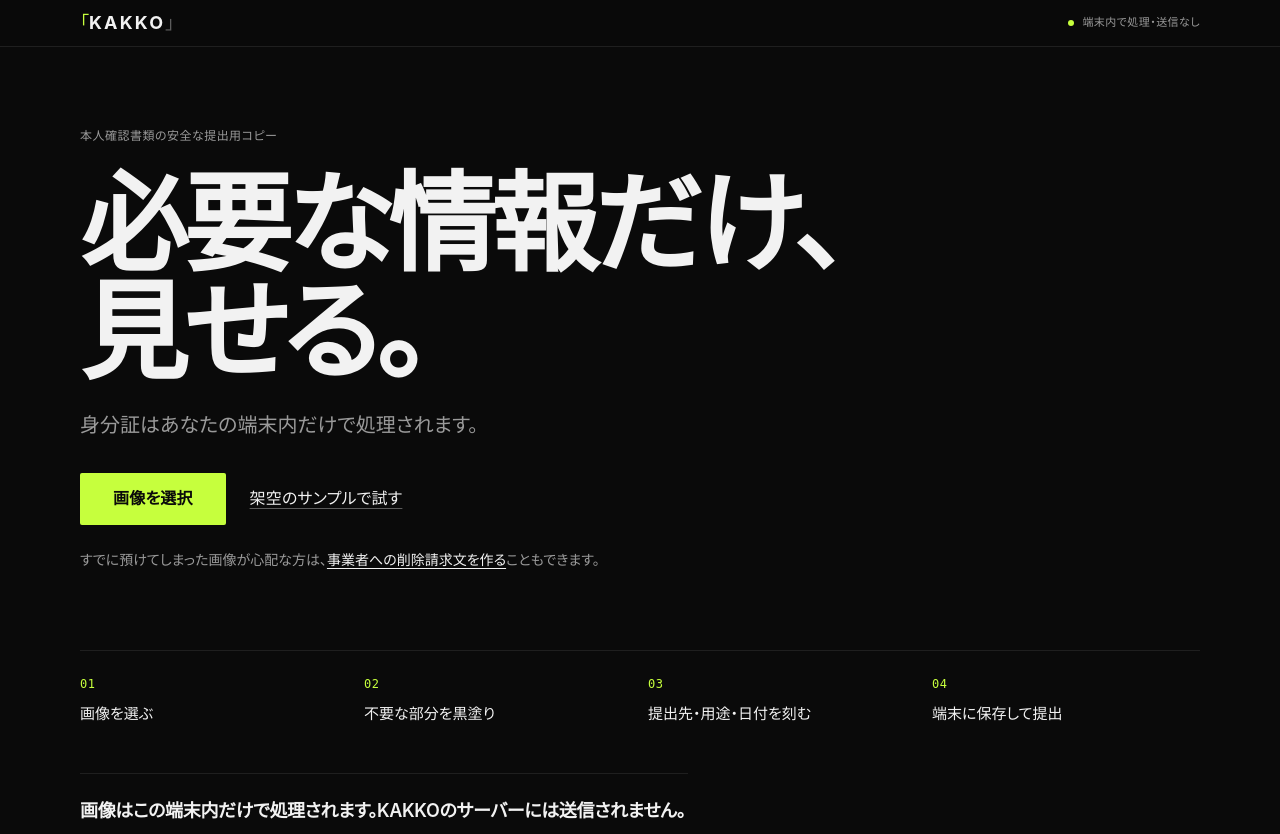
Test: App › warns about risky job offers and blocks export until acknowledged
Click the button "架空のサンプルで試す" at (326, 499), box [250,477,402,521]
(page scrolled)
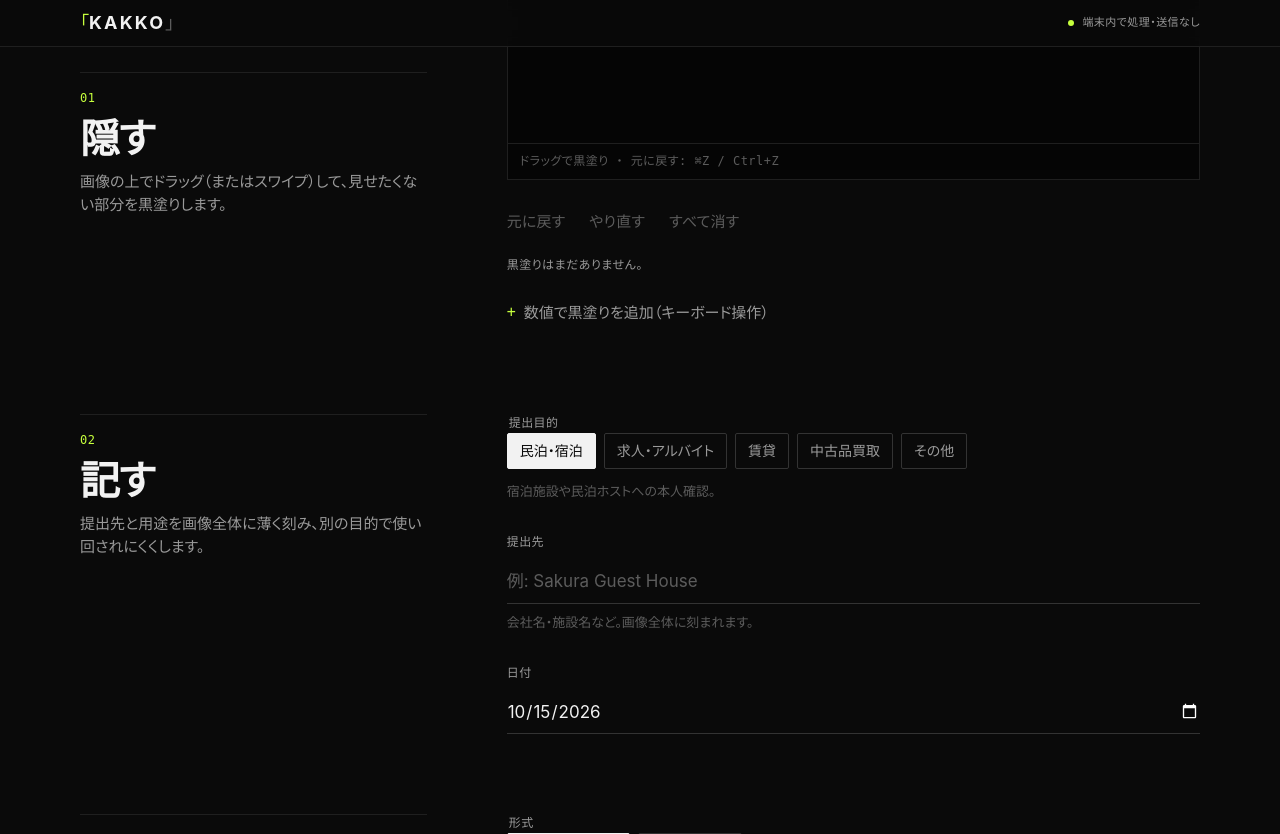
Click the radio button labelled "求人・アルバイト" at (665, 451), box [604,433,727,469]
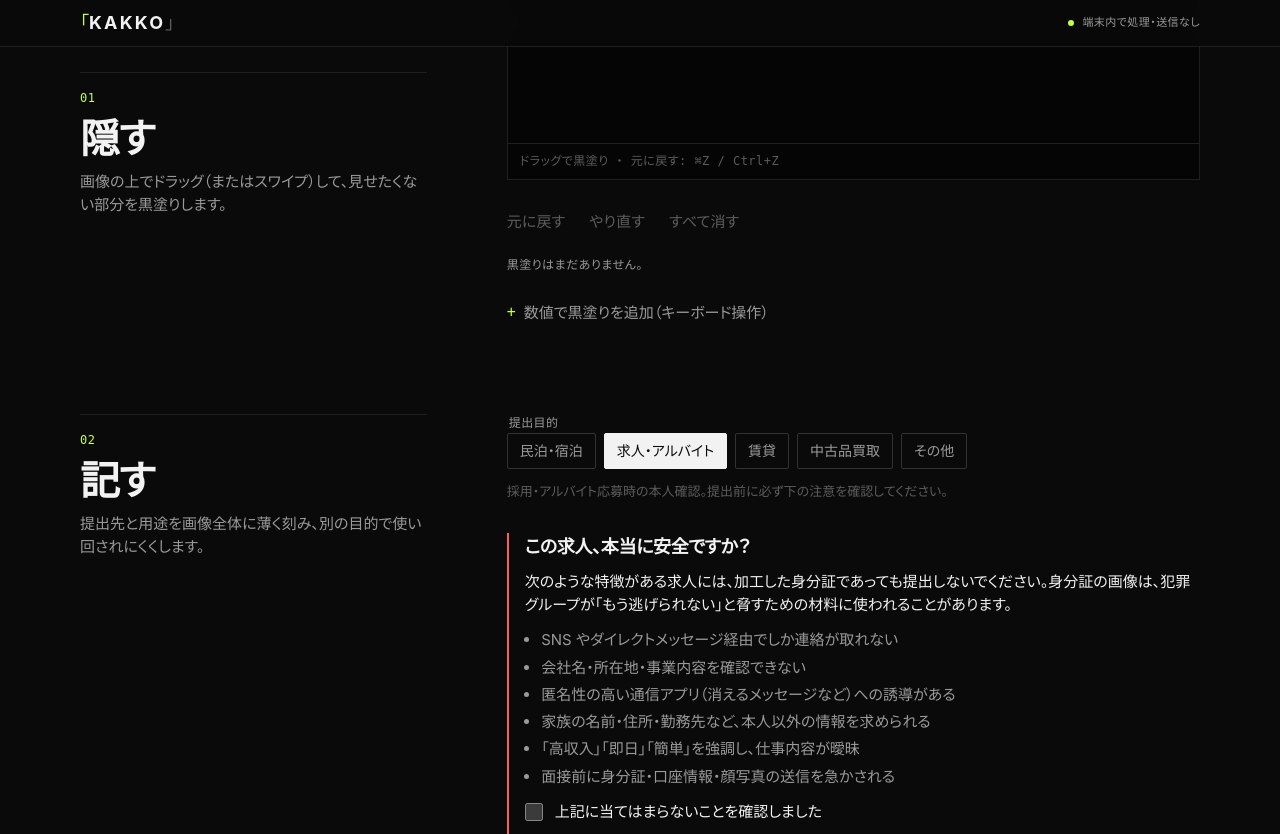
Check: the heading "この求人、本当に安全ですか？" is shown, box [525,536,750,557]
Check: the list item "SNS やダイレクトメッセージ経由でしか連絡が取れない" is shown, box [541,630,898,649]
Click the checkbox labelled "上記に当てはまらないことを確認しました" at (534, 812), box [525,803,543,821]
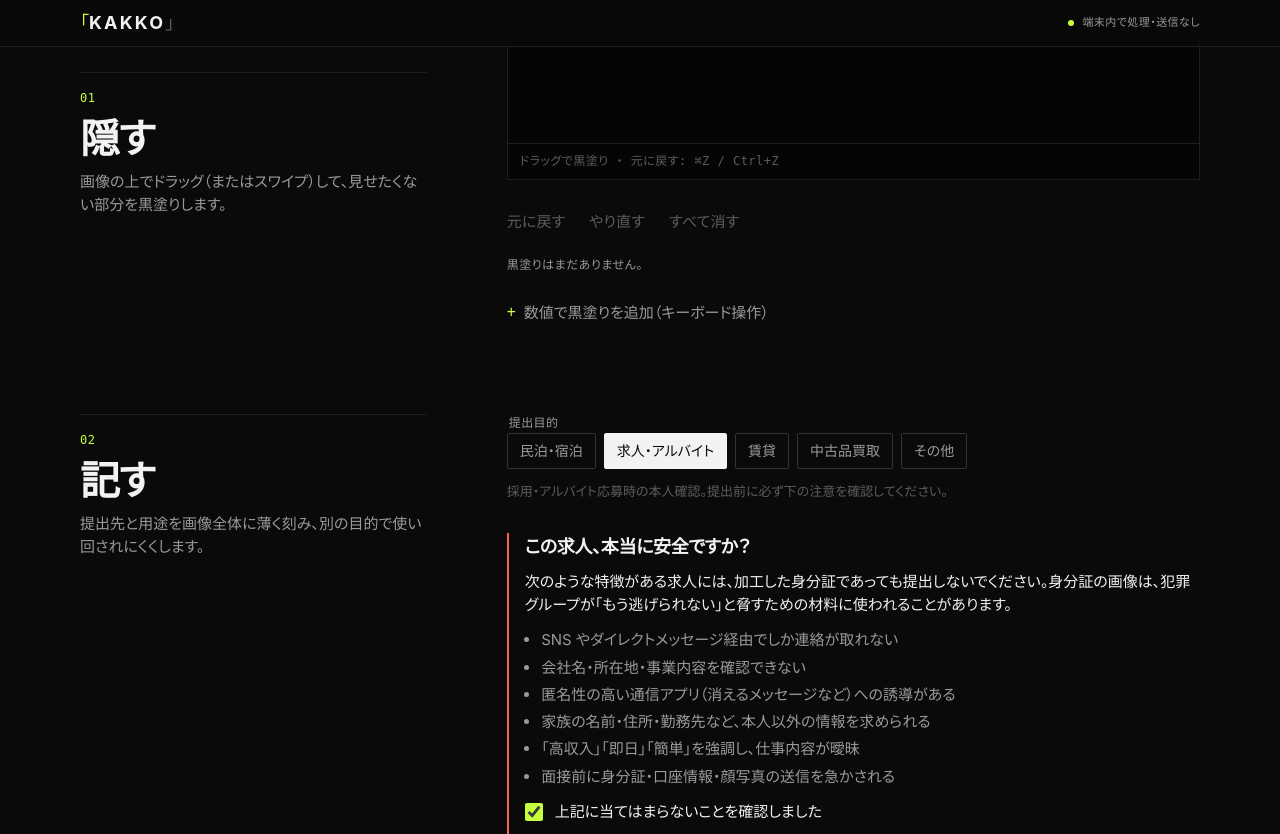
Click the radio button labelled "賃貸" at (762, 451), box [735,433,789,469]
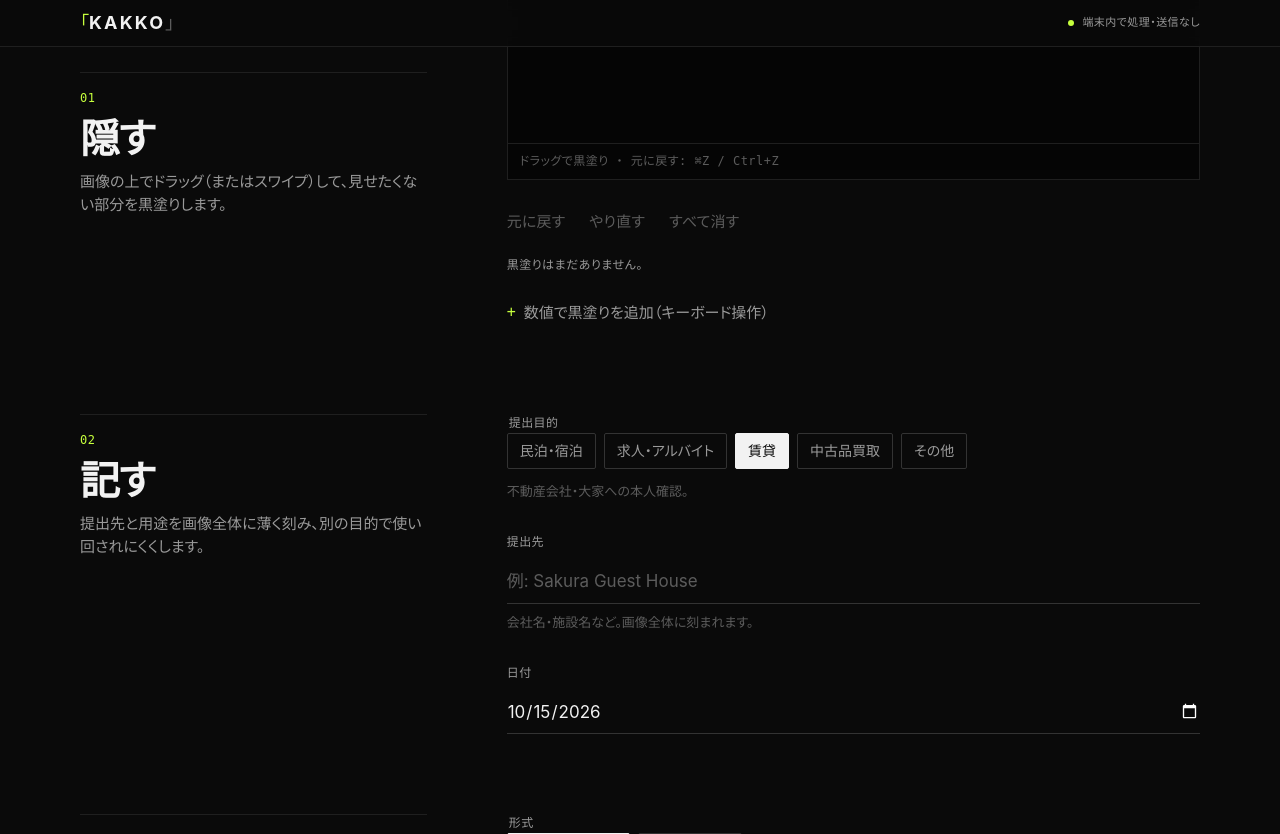
Click the radio button labelled "求人・アルバイト" at (665, 451), box [604,433,727,469]
(page scrolled)
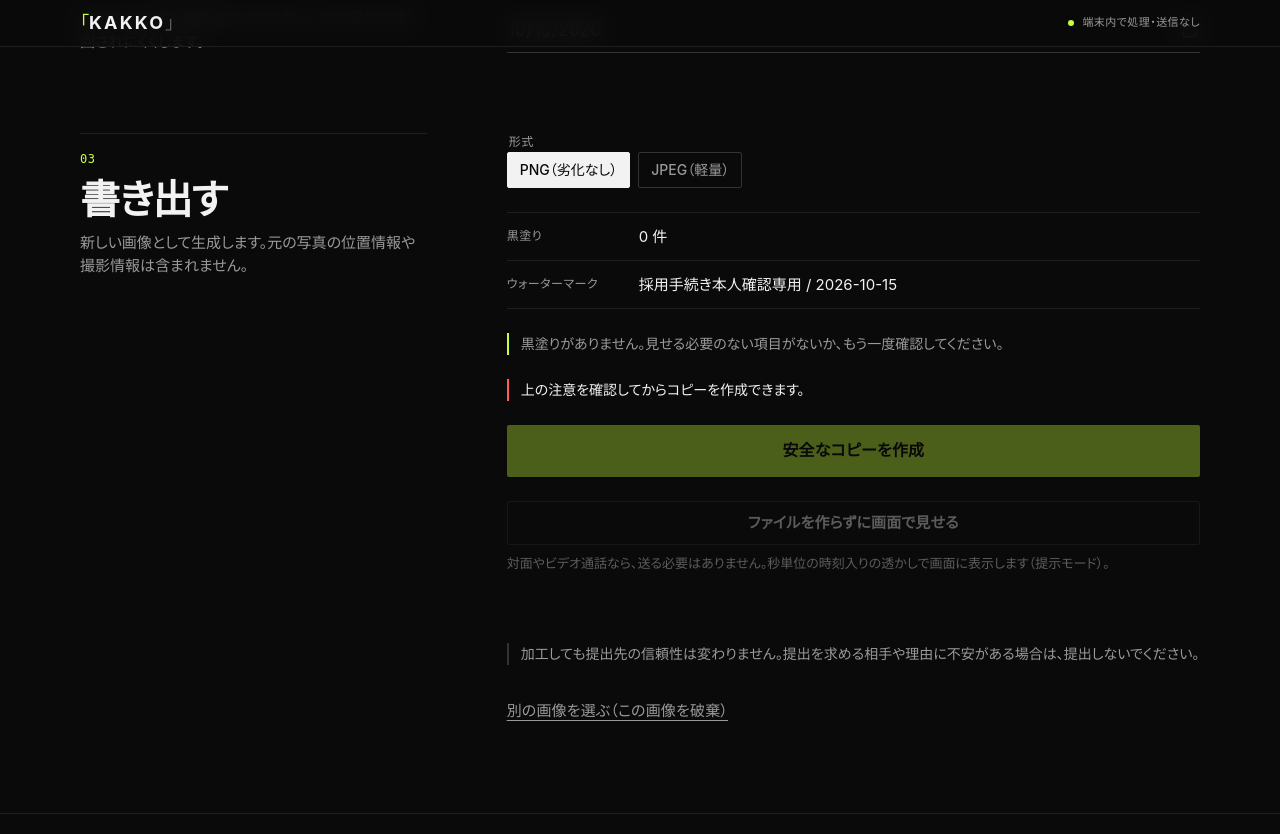
Check: the button "安全なコピーを作成" is disabled, box [507,424,1200,476]
